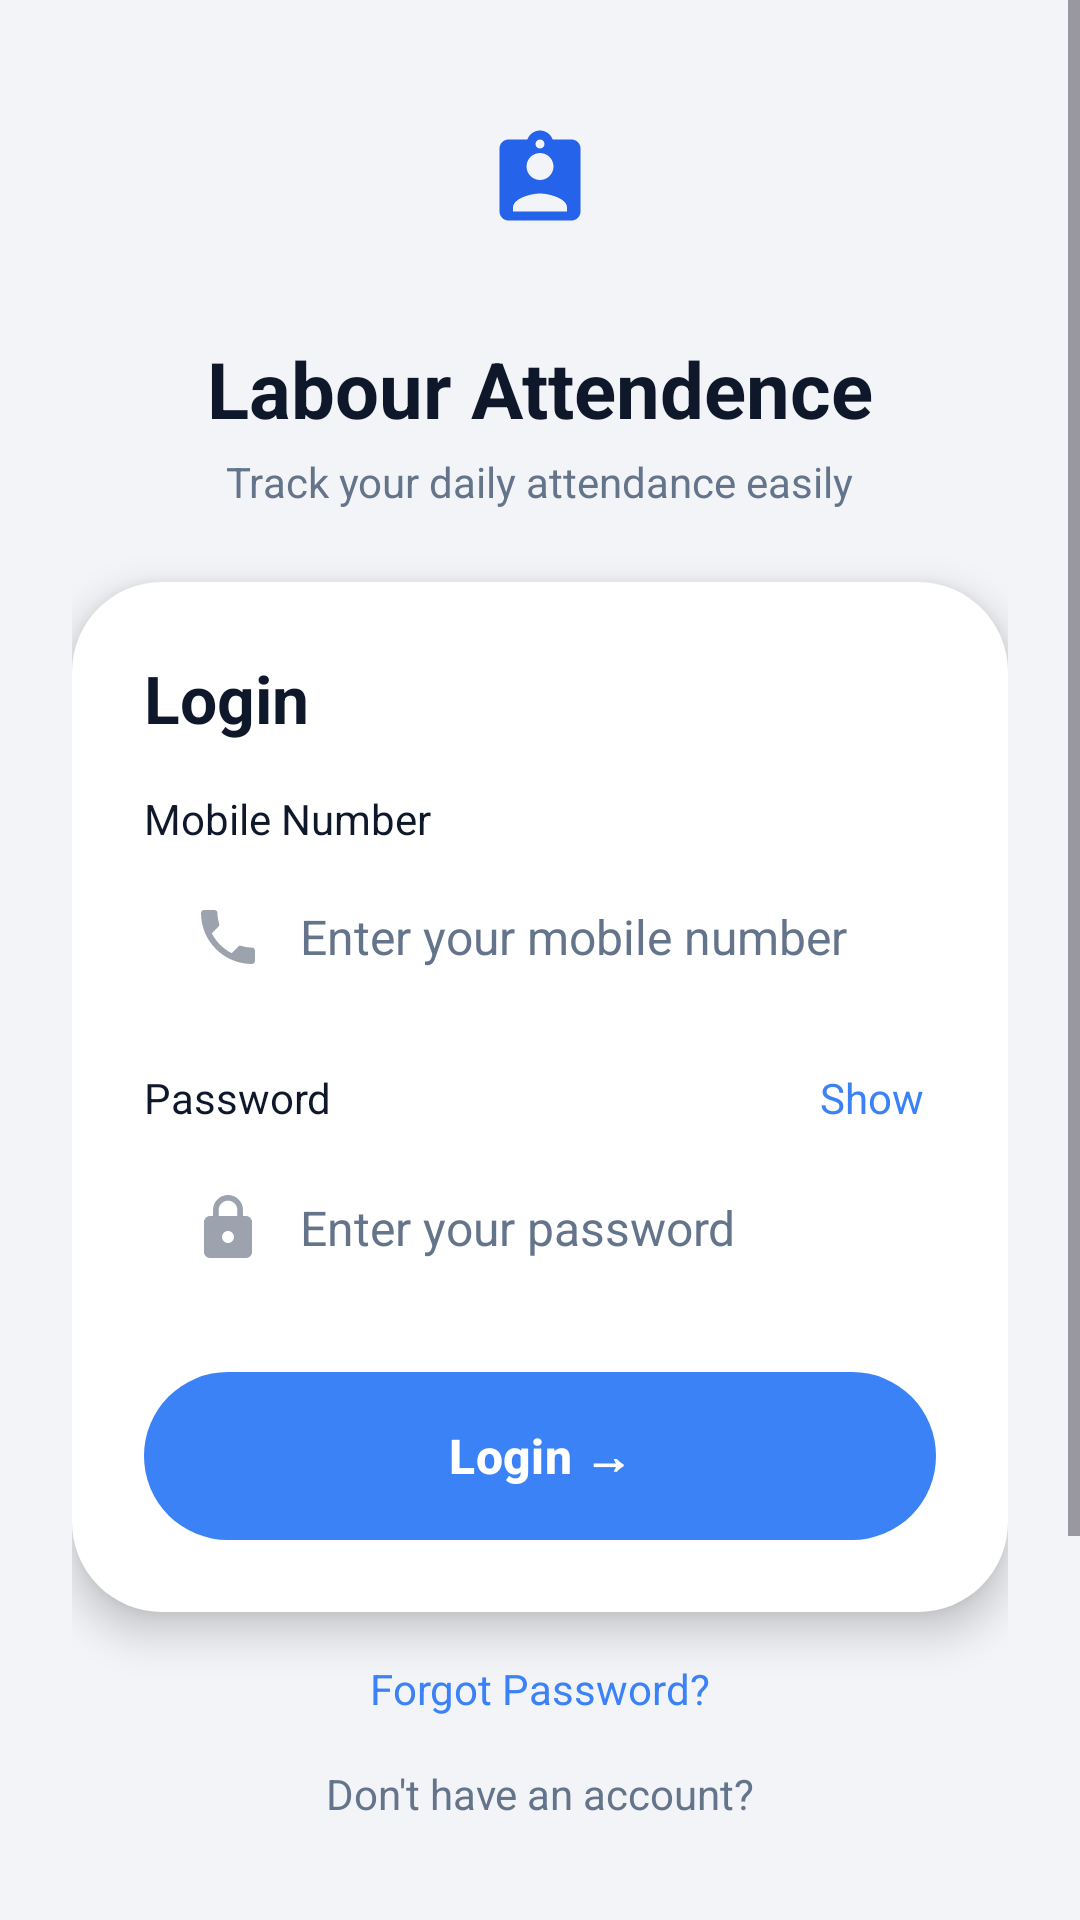

Icons on this 1080px×1920px Android screen, each with its box as (x1,y1,x2,y2):
App icon: (499,130,581,221)
